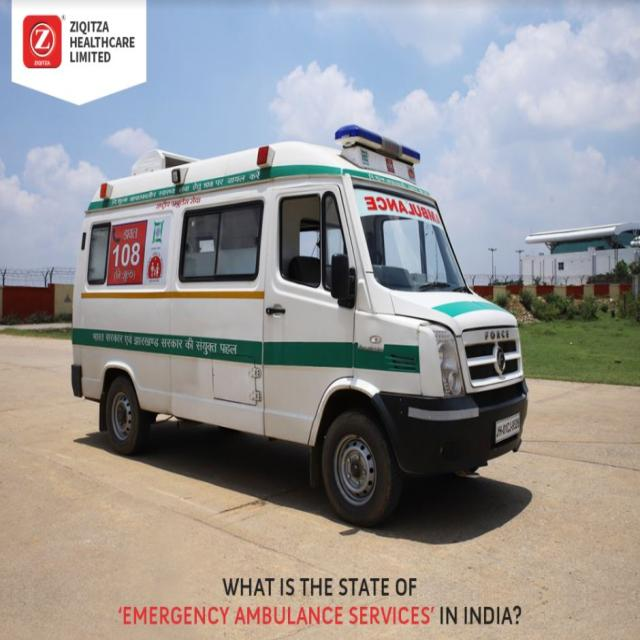Ambulance: (58, 111, 538, 540)
